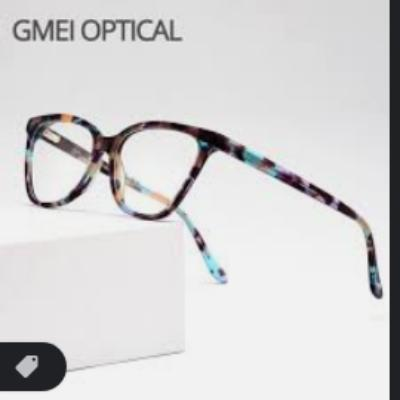glasses: (16, 110, 392, 301)
